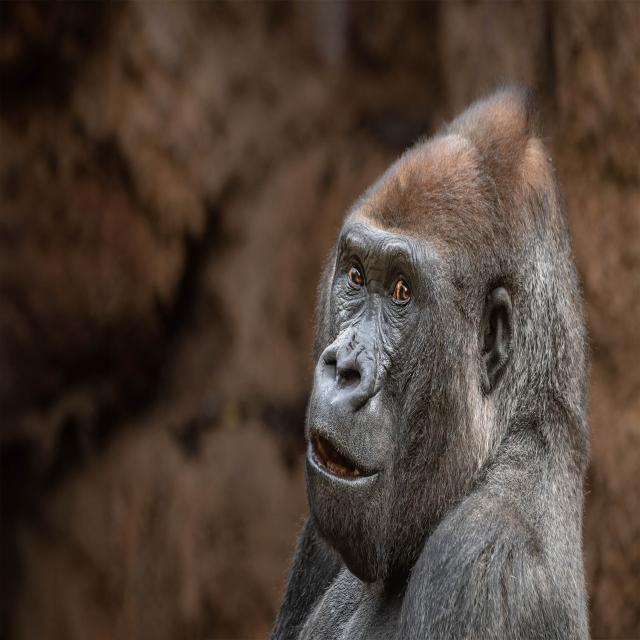Gorilla: (294, 94, 592, 640)
